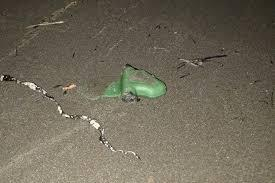PMF 1: (88, 64, 168, 106)
